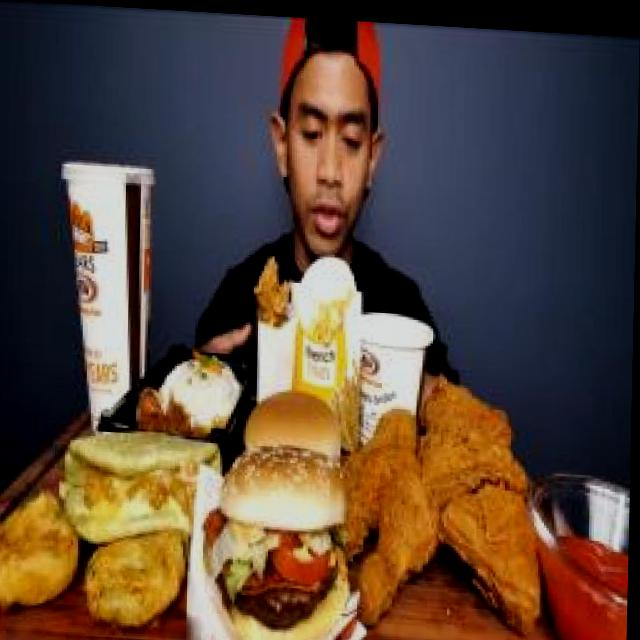AW cola: (51, 143, 169, 423)
black pepper rice bowl: (127, 346, 252, 455)
cheese burger: (237, 379, 357, 480)
chicken waffle: (247, 252, 304, 349)
crispy corn: (356, 302, 443, 439)
french fries: (292, 252, 359, 360)
fried chicken: (343, 371, 547, 619)
mango chicken pocket: (58, 403, 228, 546)
mozza burger: (202, 435, 361, 640)
perkedel: (77, 504, 202, 640), (0, 483, 87, 632)
